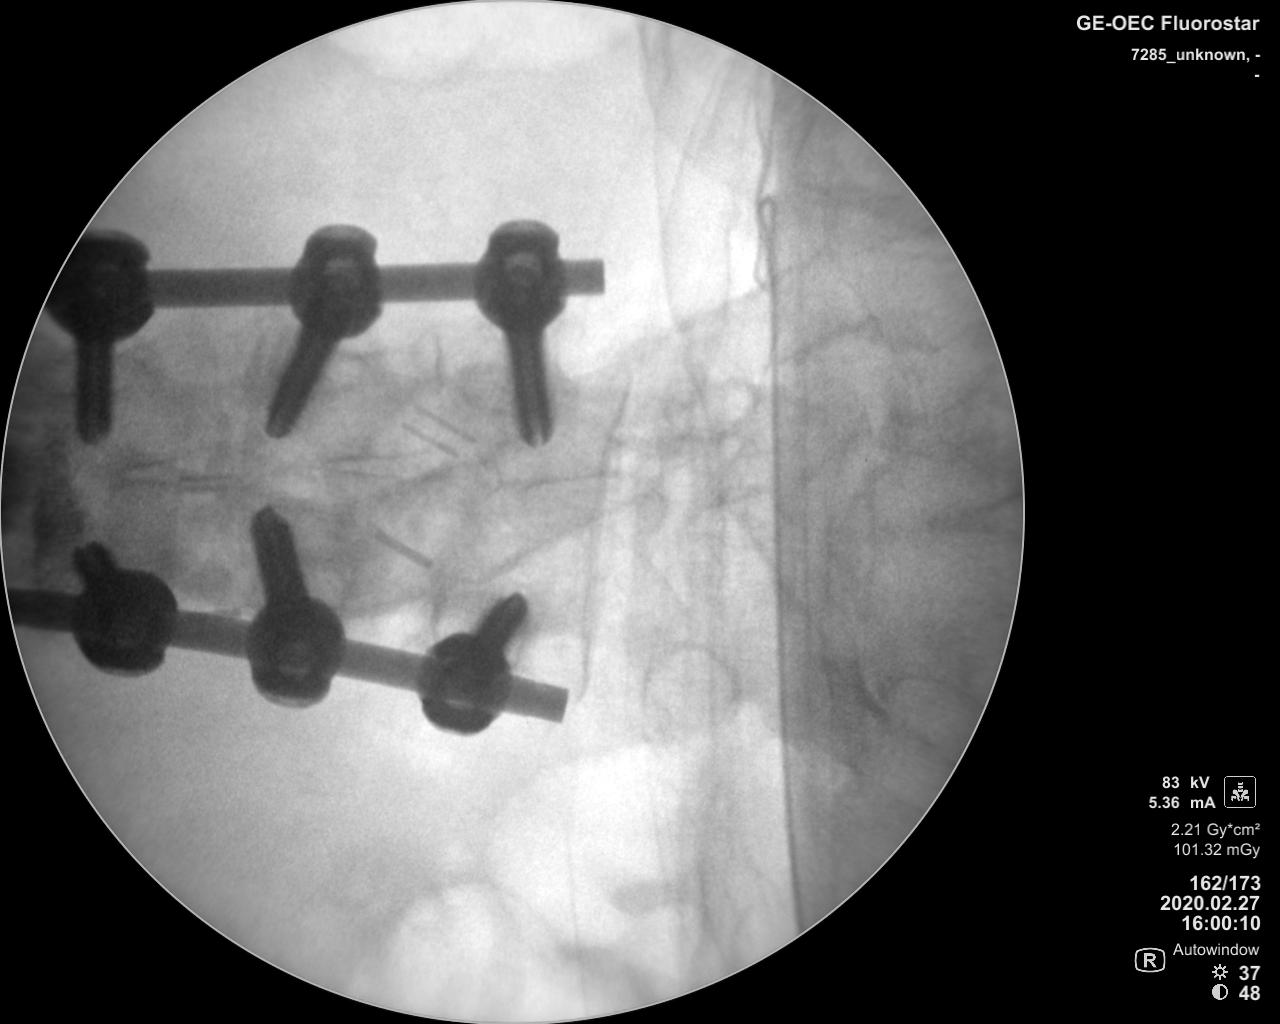eyes: (637, 638, 740, 728), (430, 598, 518, 667), (667, 378, 758, 440), (298, 349, 371, 389), (295, 560, 353, 605)
line: (571, 366, 630, 701)
nose: (115, 446, 261, 492), (522, 470, 650, 517), (313, 444, 452, 487)
